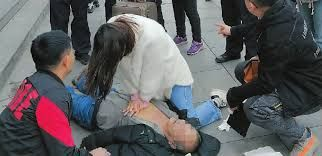10+: (1, 1, 320, 154)
down: (61, 62, 213, 155)
